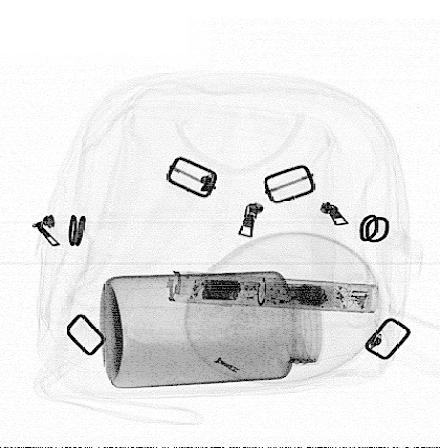Baton: (167, 271, 380, 313)
